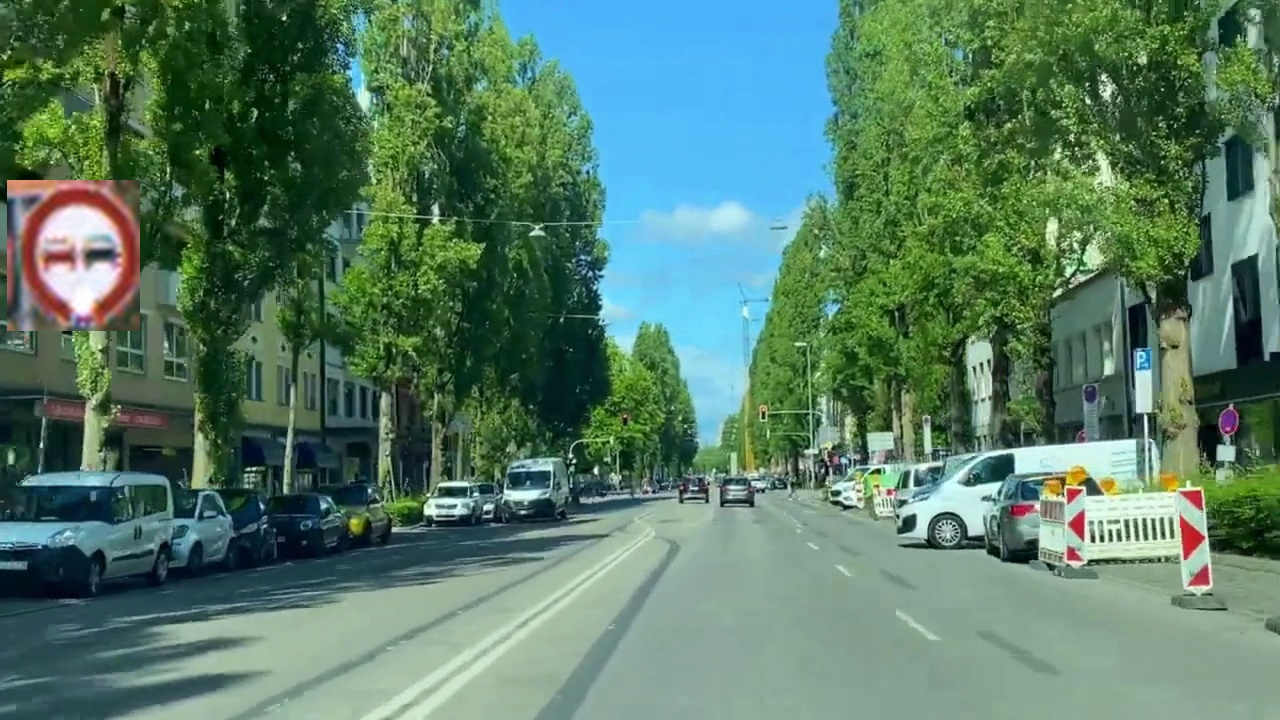No passing: (7, 180, 140, 331)
